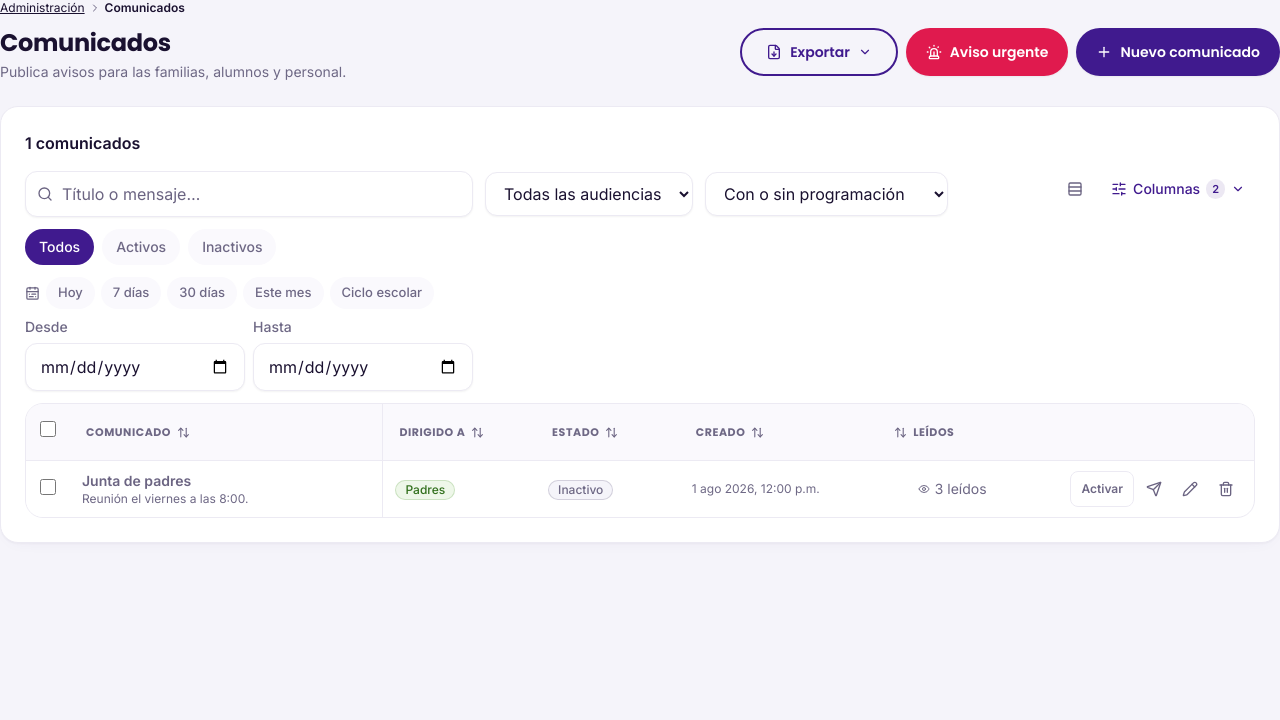
Scenario: AdminAnnouncements › selects a row, shows the dry-run plan and commits the bulk deactivate
expect the text "Junta de padres" is shown: met, box [82, 472, 191, 489]
Click the checkbox named "Seleccionar comunicado Junta de padres".
click(48, 486)  # box [40, 478, 56, 494]
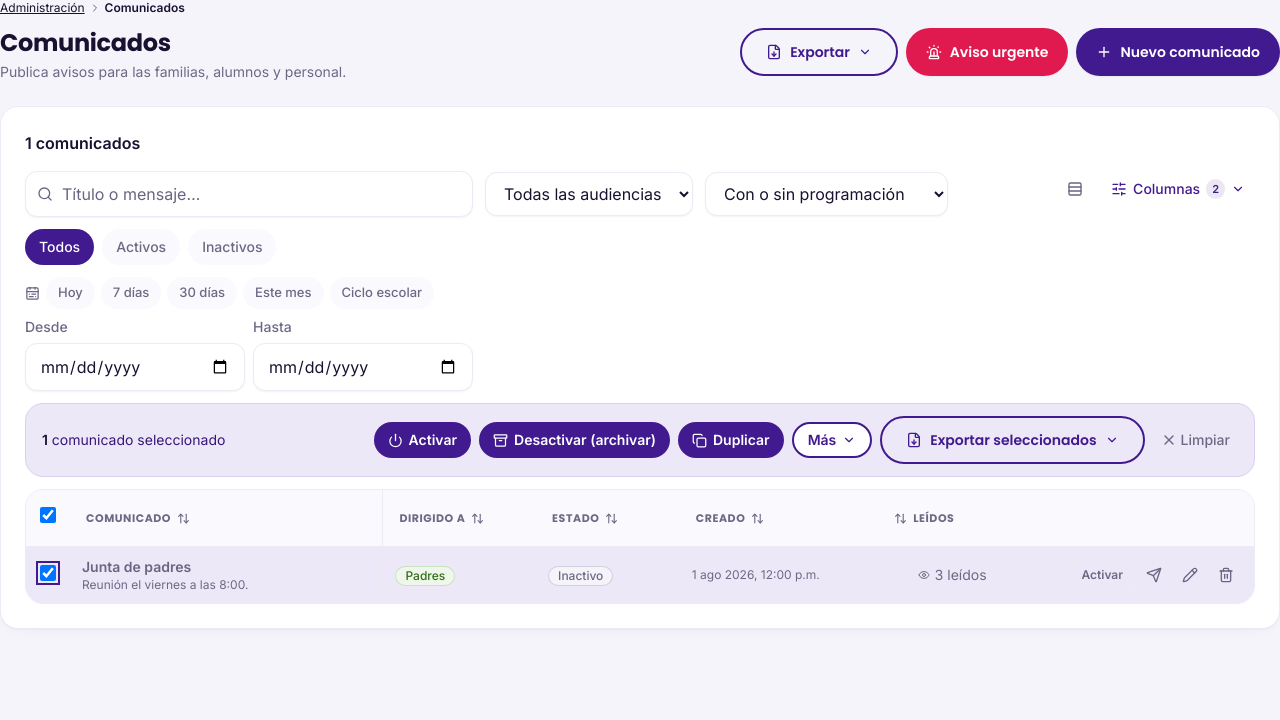
Click the button "Más".
click(832, 440)  # box [792, 422, 872, 458]
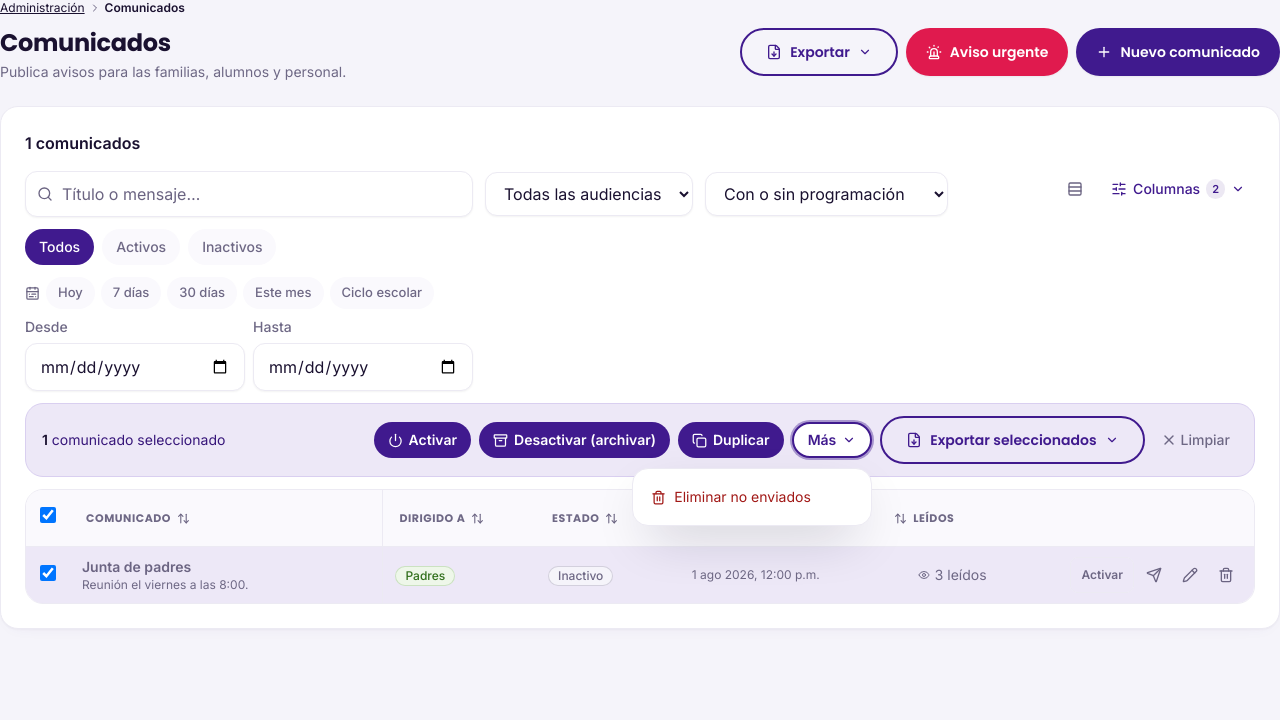
Click the menu item "Eliminar no enviados".
click(752, 497)  # box [639, 475, 865, 519]
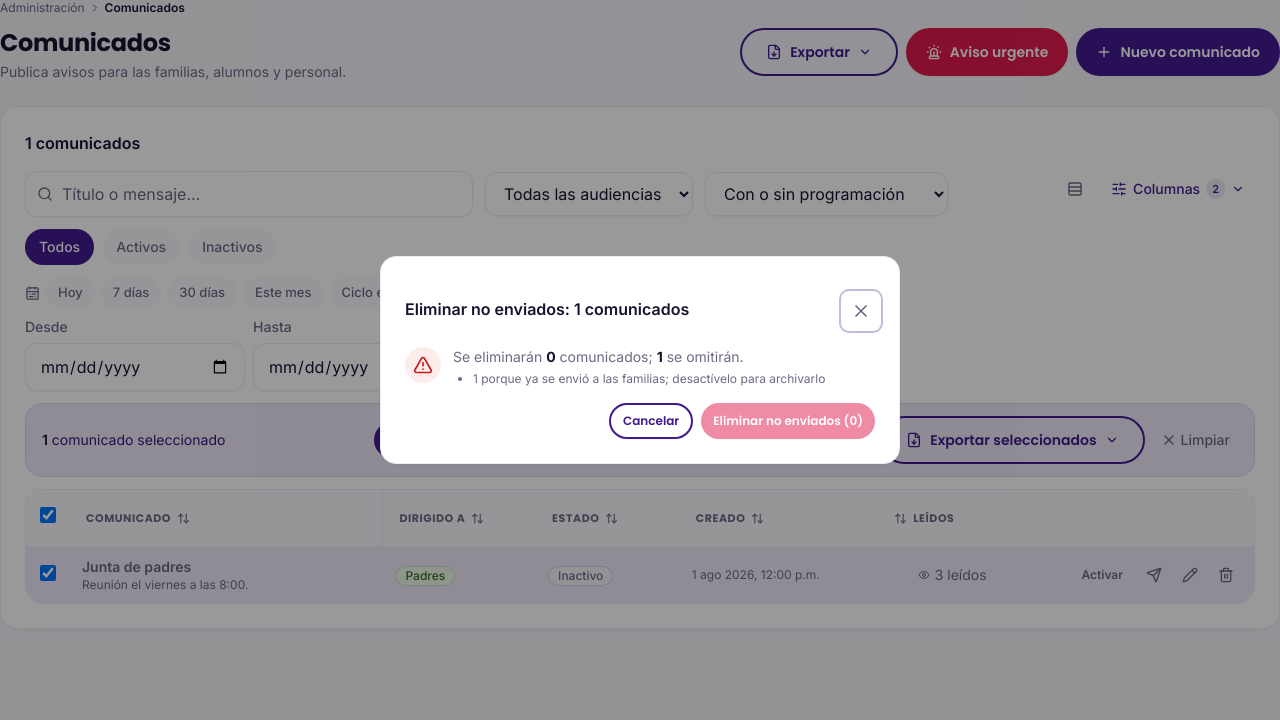
expect the list item "1 porque ya se envió a las familias" is shown: met, box [473, 371, 825, 387]
expect the button "Eliminar no enviados (0)" is disabled: met, box [701, 403, 875, 439]
